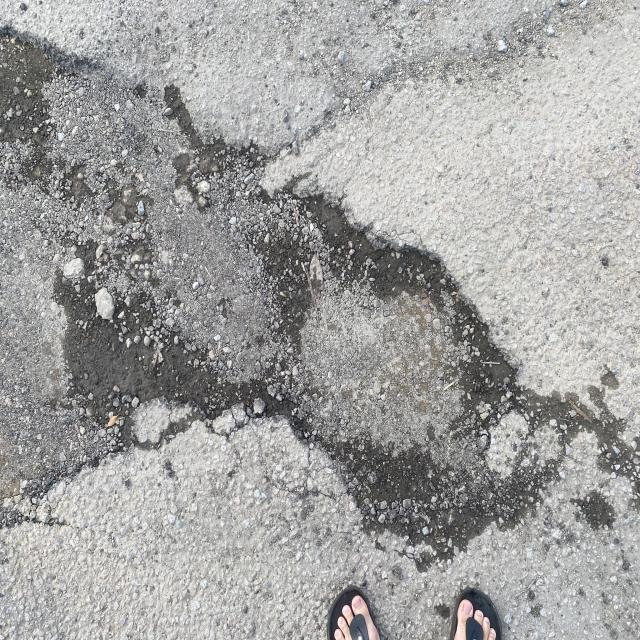Pothole: (56, 152, 572, 522)
